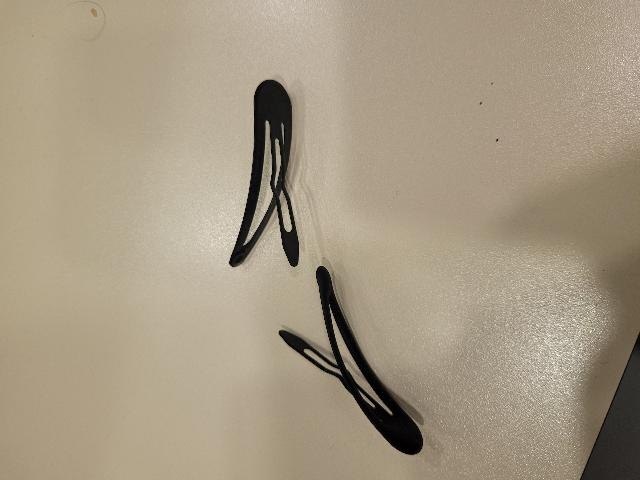Metal: (277, 266, 431, 459), (216, 81, 313, 268)
